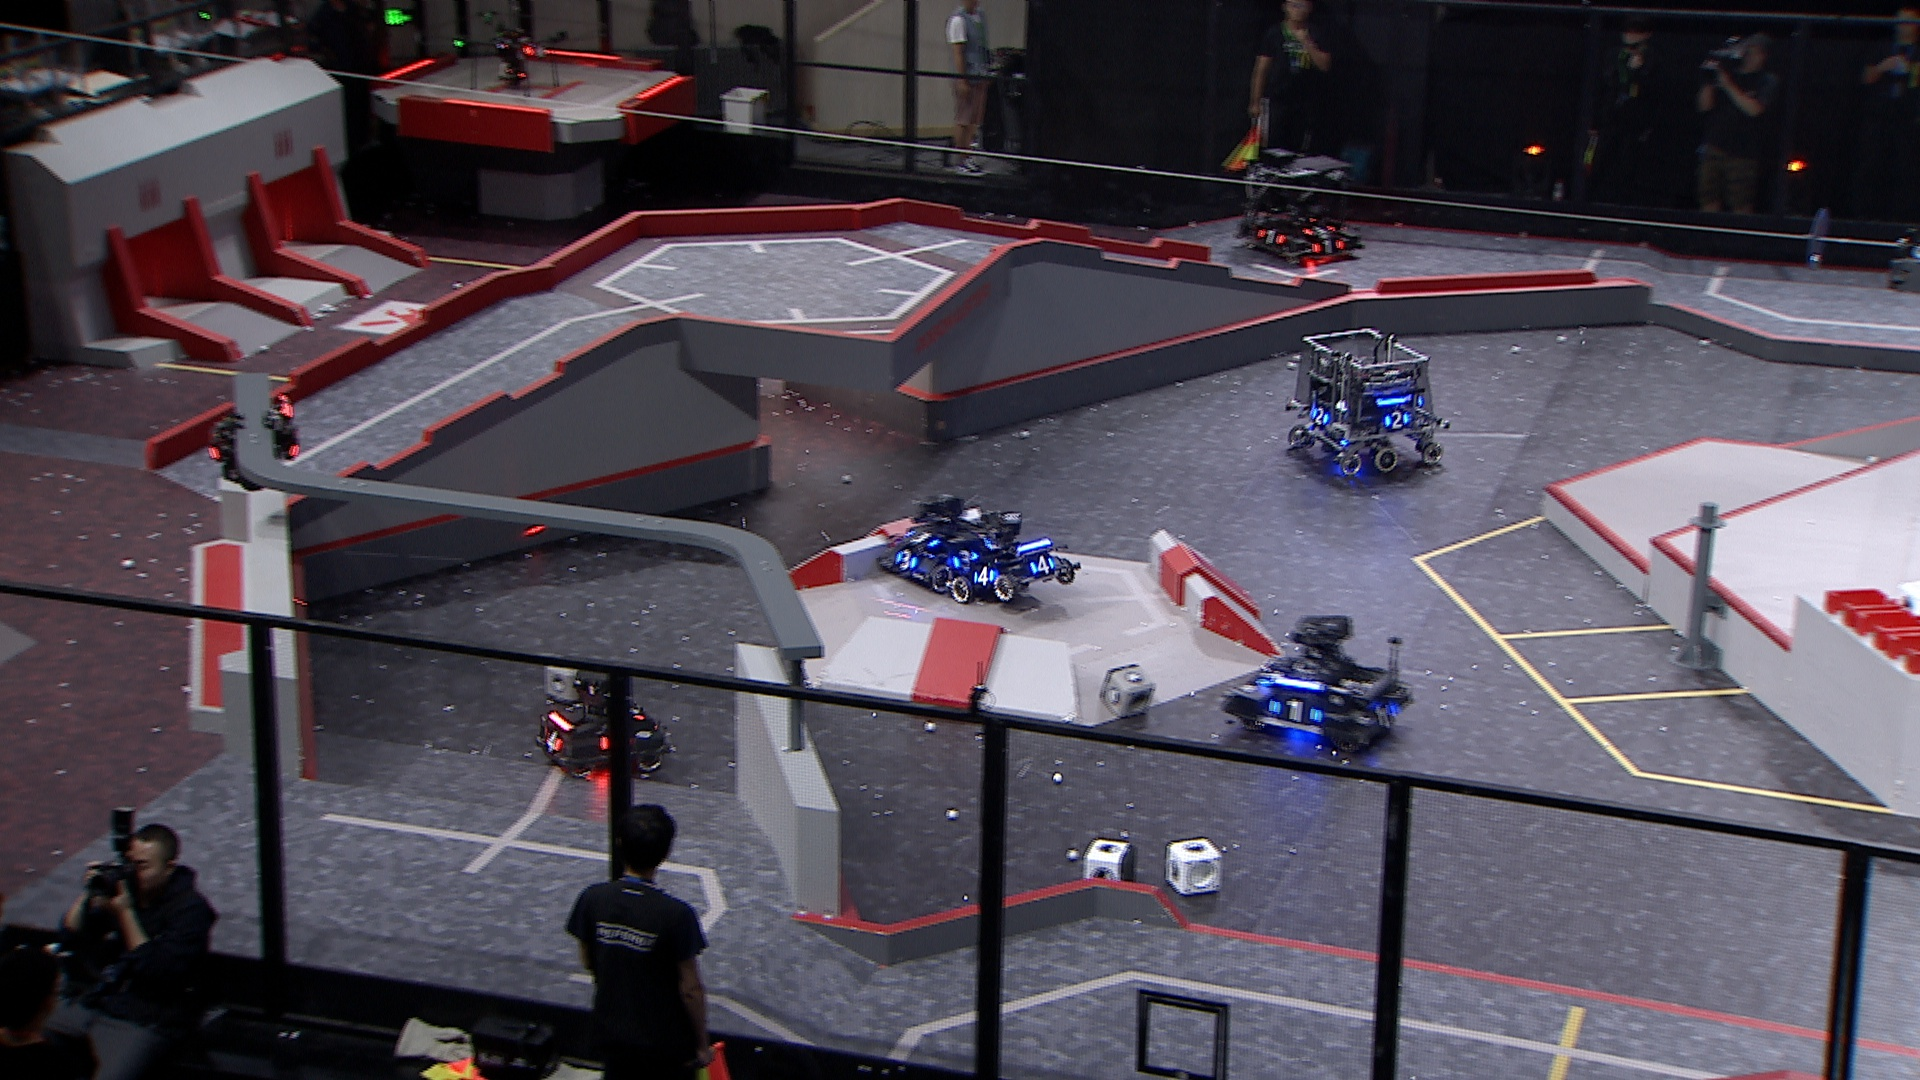armor: (1267, 694, 1321, 727), (1365, 695, 1400, 731), (1307, 235, 1346, 257), (949, 546, 982, 572), (538, 725, 567, 754), (891, 546, 922, 572), (1027, 551, 1058, 578), (1250, 659, 1282, 684), (906, 527, 939, 550), (968, 564, 1000, 585), (1257, 224, 1286, 247), (1302, 218, 1338, 235), (1381, 410, 1408, 433), (1305, 404, 1335, 425)
car: (1218, 611, 1414, 752), (1280, 324, 1455, 475), (1236, 149, 1371, 266), (535, 666, 673, 774), (949, 512, 1084, 612), (872, 491, 1001, 589)
watcher: (204, 392, 302, 493)
